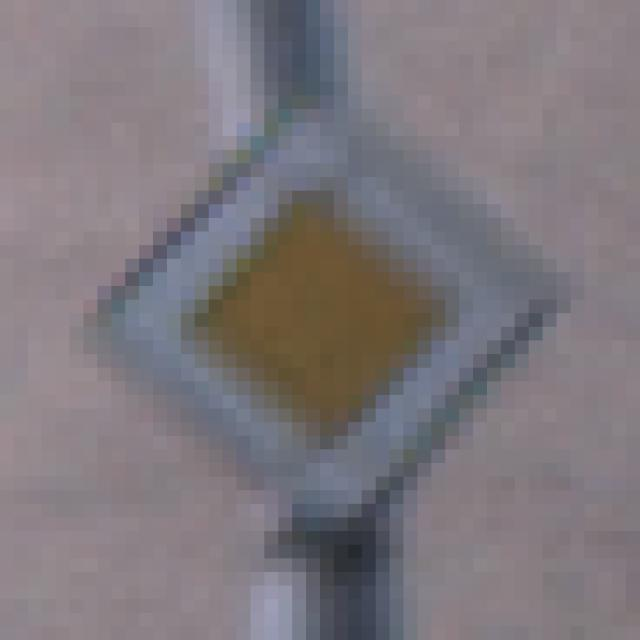Main Road: (71, 69, 572, 573)
